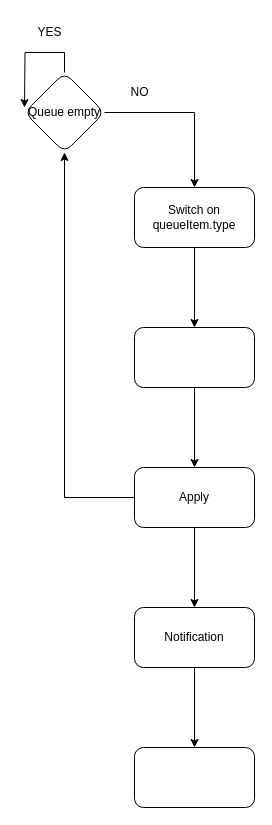
The diagram is 272 pixels wide and 825 high, and some of its shapes have lost their labels. The centre of each missing label's shape, as x and y in pixels:
"Switch on queueItem.action" goes at point 194,357.
"Update UI" goes at point 194,777.
